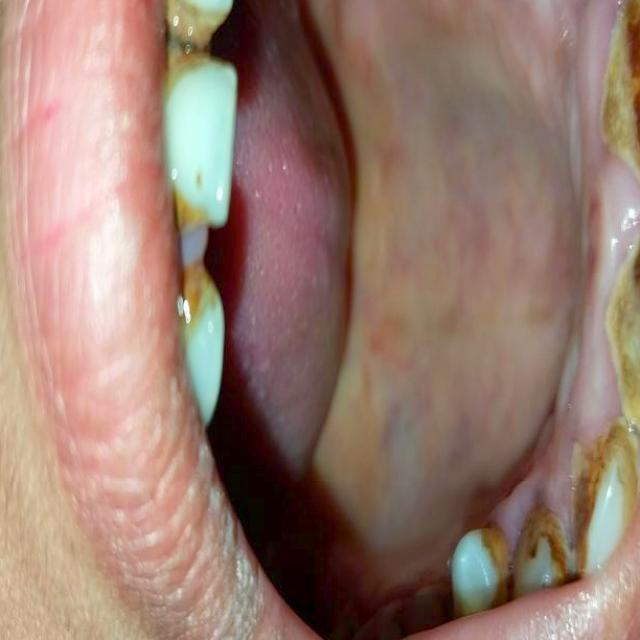CALCULUS: (594, 0, 637, 186), (603, 247, 640, 438)
